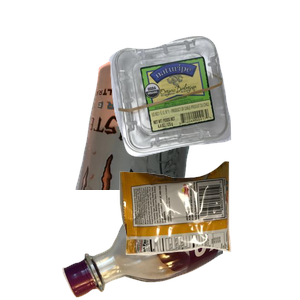glass: (60, 180, 300, 300)
metal: (73, 52, 263, 232)
plastic: (106, 34, 300, 183)
trash: (117, 159, 300, 300)
